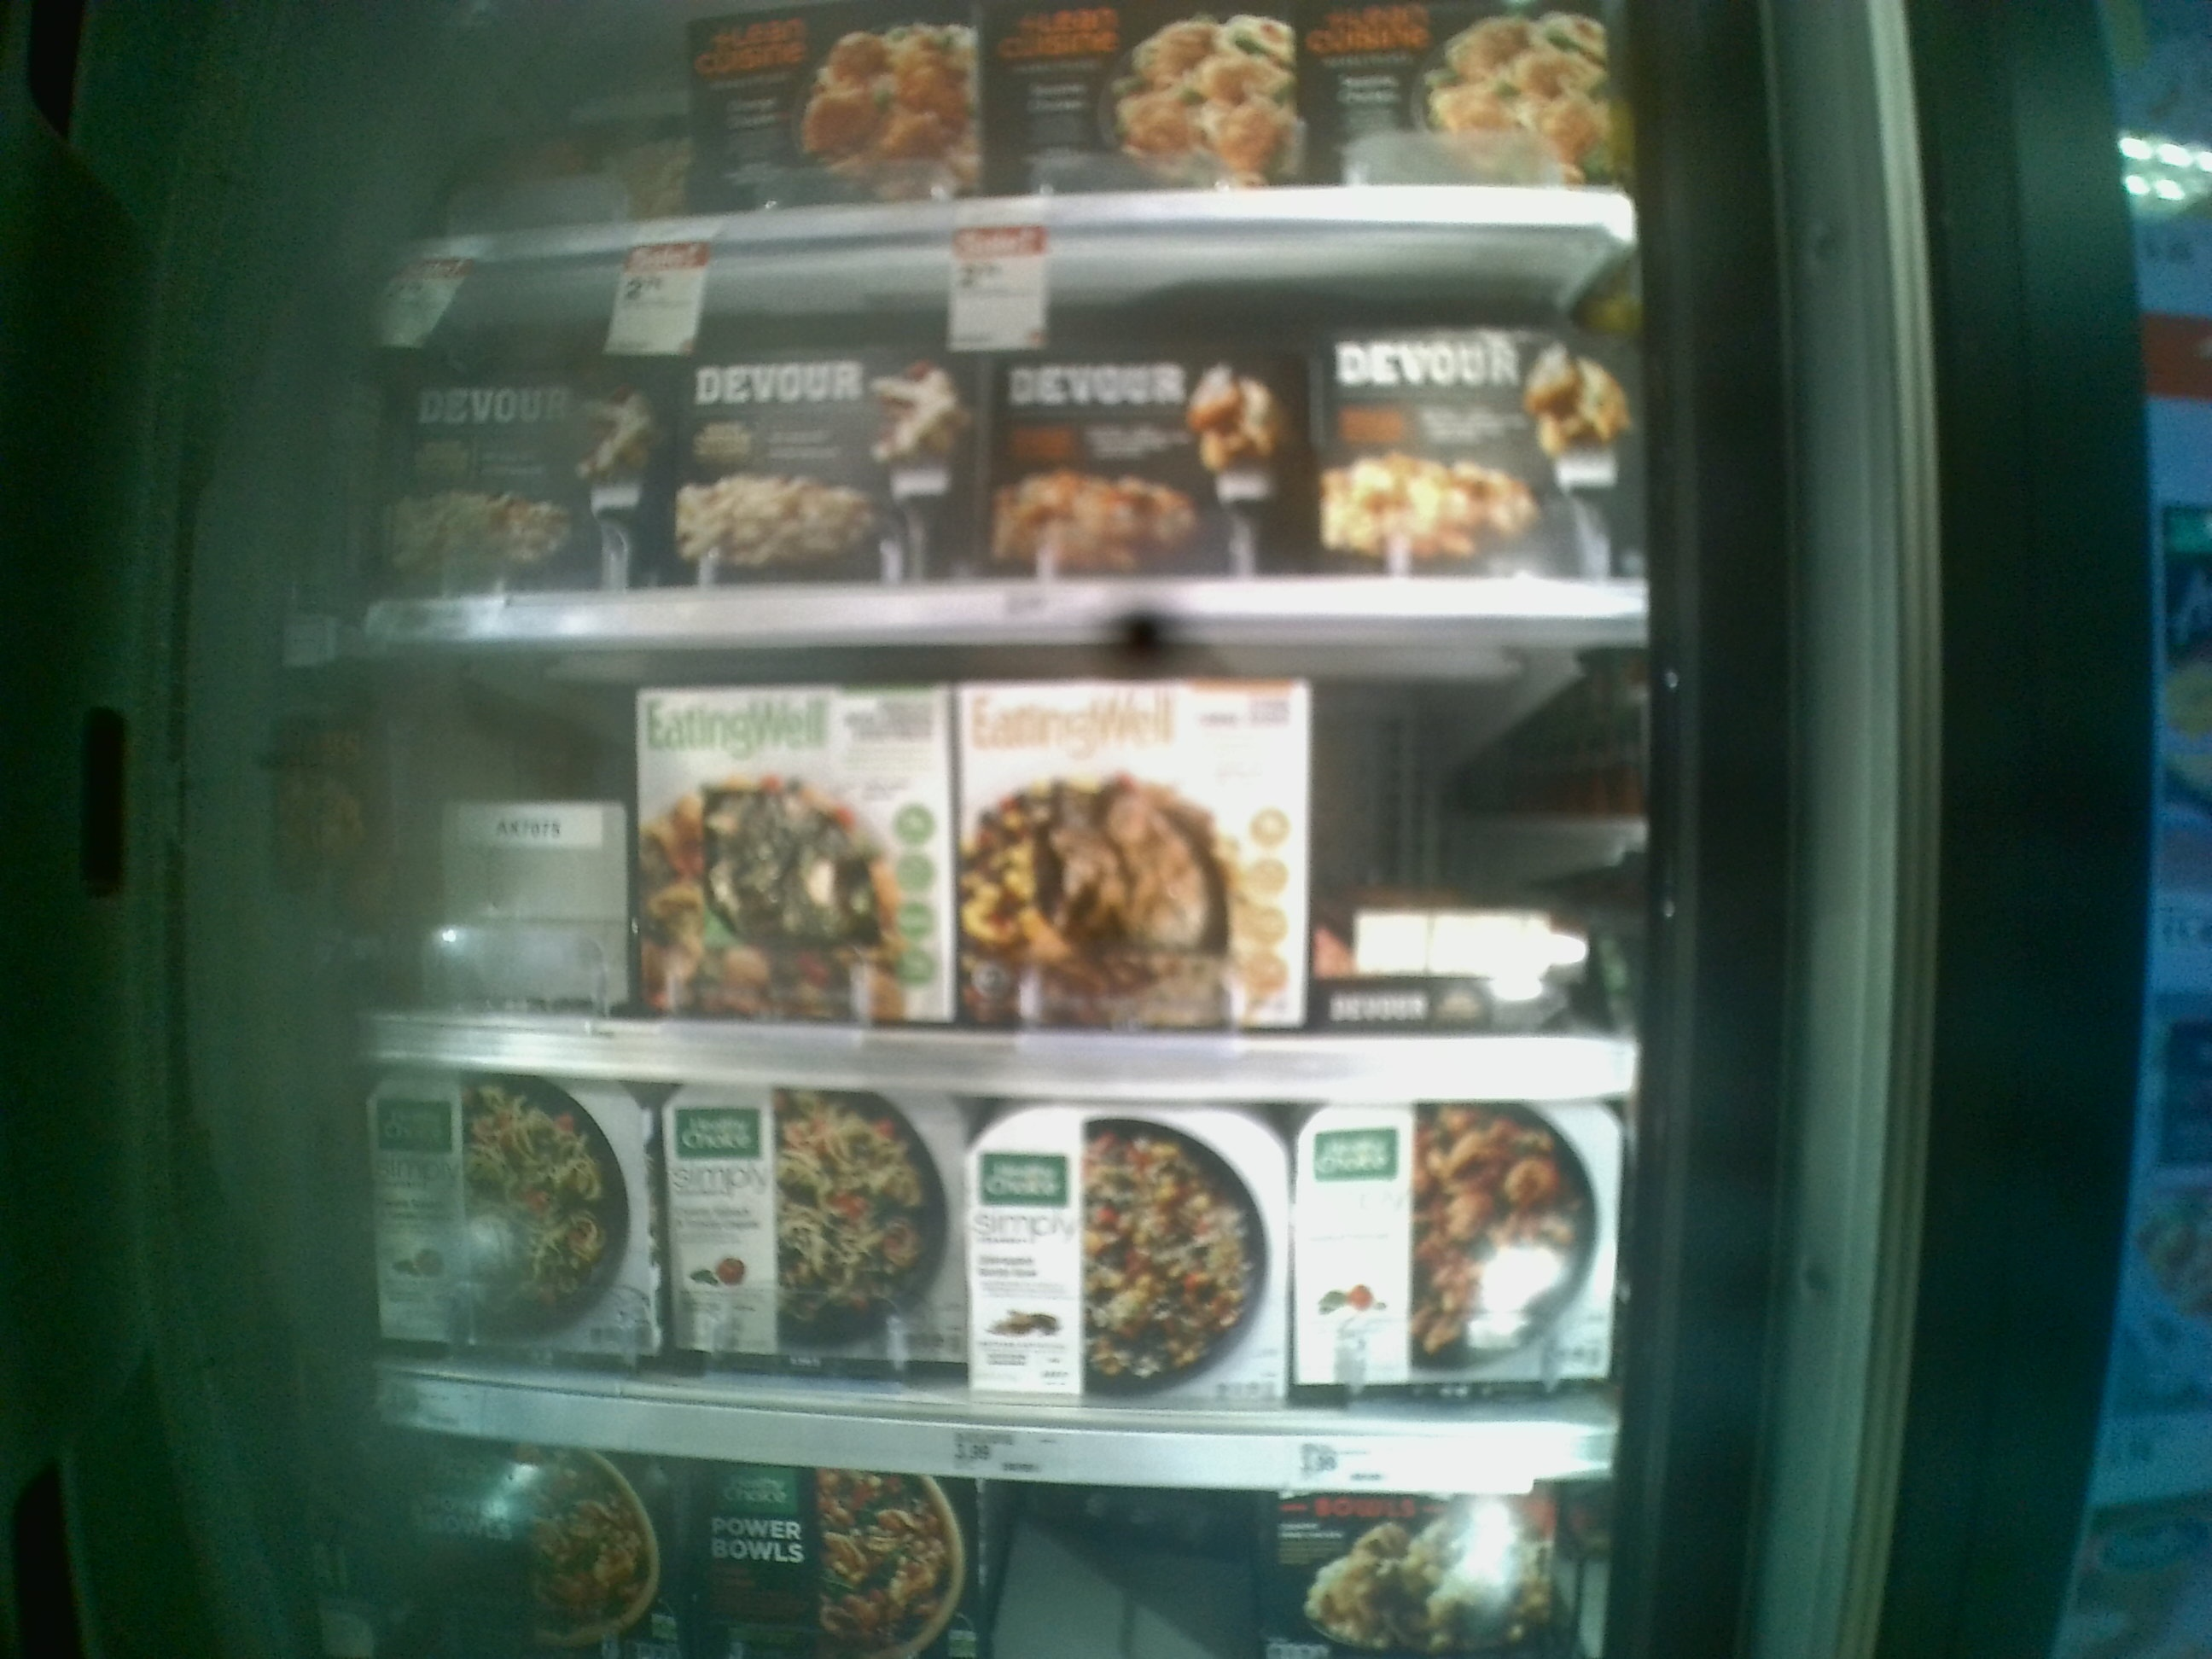shelf: (341, 626, 1641, 1110), (301, 211, 1649, 626), (364, 1058, 1616, 1492)
